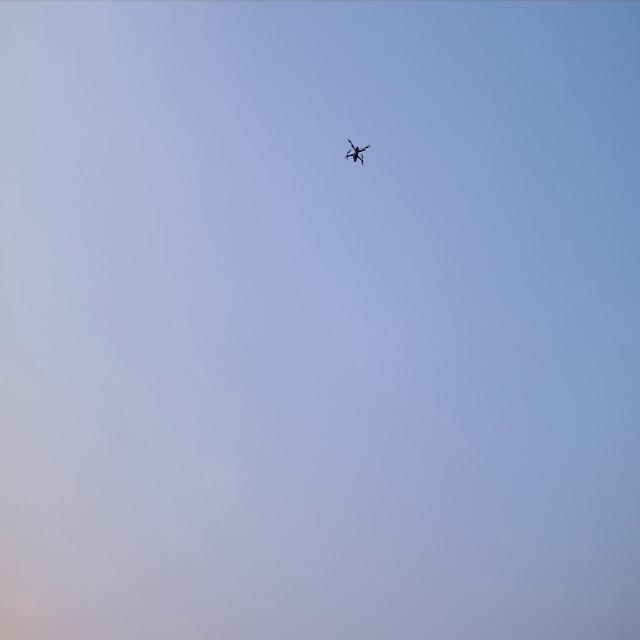UAV: (344, 136, 371, 168)
